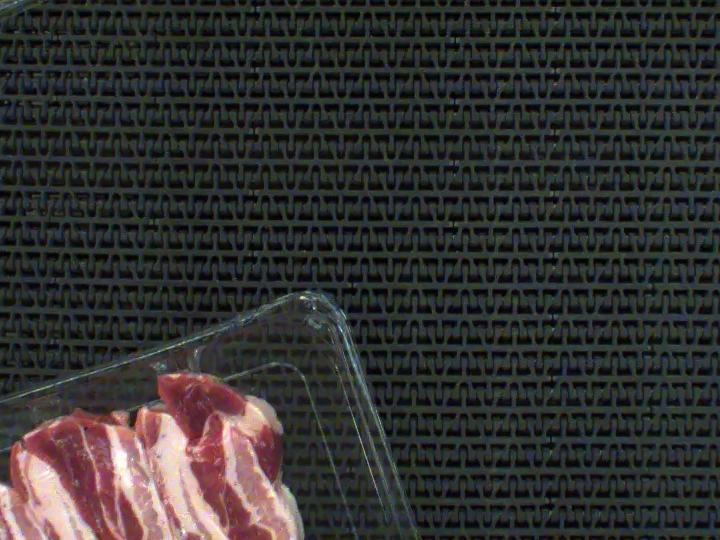packaging-error: (87, 330, 235, 405)
